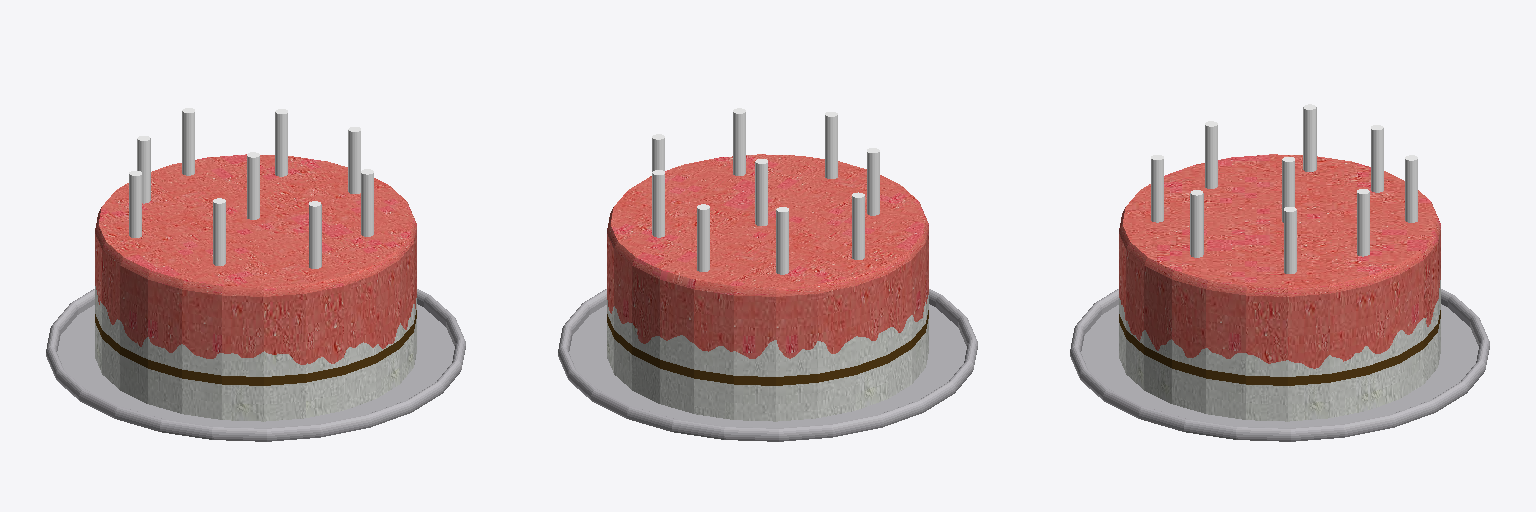
3 views of the same model, side by side, from view 1: azimuth 30°, elevation 25°; view 2: azimuth 150°, elevation 25°; view 3: azimuth 270°, elevation 25° (orthographic).
Bounding box in the file's own units: 0.4817 × 0.2463 × 0.4817.
Materials: 5 (2 with a texture image).